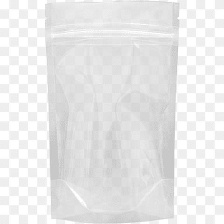glass: (39, 0, 186, 224)
